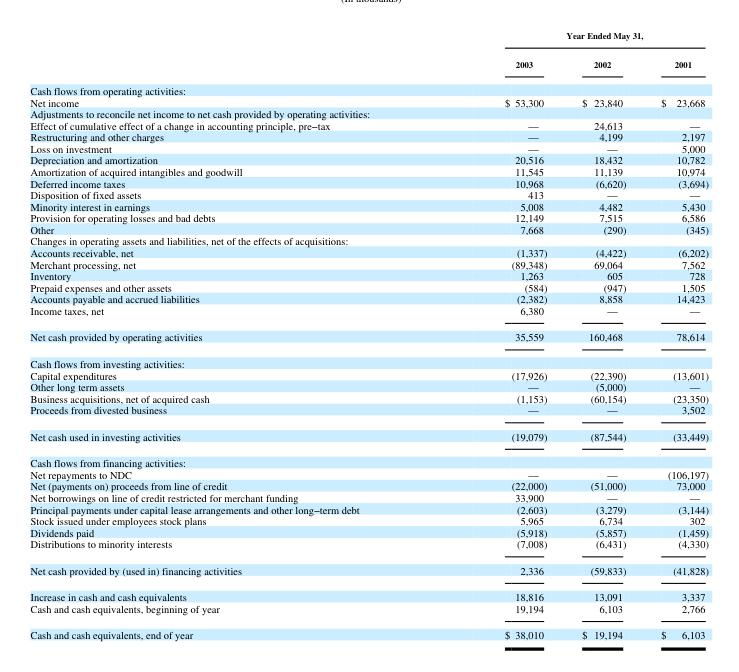table: (29, 29, 708, 641)
table column: (29, 29, 431, 641), (431, 29, 563, 641), (563, 29, 642, 641), (642, 29, 708, 641)
table column header: (29, 29, 708, 76)
table projected row header: (29, 448, 708, 468), (29, 76, 708, 95), (29, 349, 708, 368), (29, 234, 708, 246), (29, 107, 708, 118)
table row: (29, 49, 708, 76), (29, 556, 708, 583), (29, 323, 708, 349), (29, 422, 708, 448), (29, 29, 708, 49), (29, 448, 708, 468), (29, 621, 708, 641), (29, 76, 708, 95), (29, 304, 708, 323), (29, 349, 708, 368), (29, 403, 708, 422), (29, 537, 708, 556), (29, 583, 708, 602), (29, 602, 708, 621), (29, 95, 708, 107), (29, 118, 708, 130), (29, 130, 708, 142), (29, 153, 708, 165), (29, 176, 708, 188), (29, 199, 708, 211), (29, 211, 708, 223), (29, 234, 708, 246), (29, 257, 708, 269), (29, 280, 708, 292), (29, 292, 708, 304), (29, 368, 708, 380), (29, 391, 708, 403), (29, 479, 708, 491), (29, 502, 708, 514), (29, 525, 708, 537), (29, 107, 708, 118), (29, 142, 708, 153), (29, 165, 708, 176), (29, 188, 708, 199), (29, 223, 708, 234), (29, 246, 708, 257), (29, 269, 708, 280), (29, 380, 708, 391), (29, 468, 708, 479), (29, 491, 708, 502), (29, 514, 708, 525)
table spanning cell: (431, 29, 708, 49)
